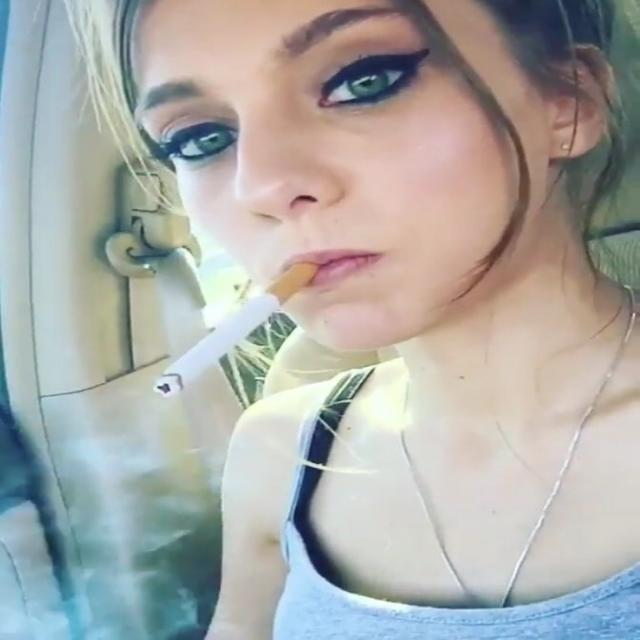smoke: (142, 255, 328, 404)
